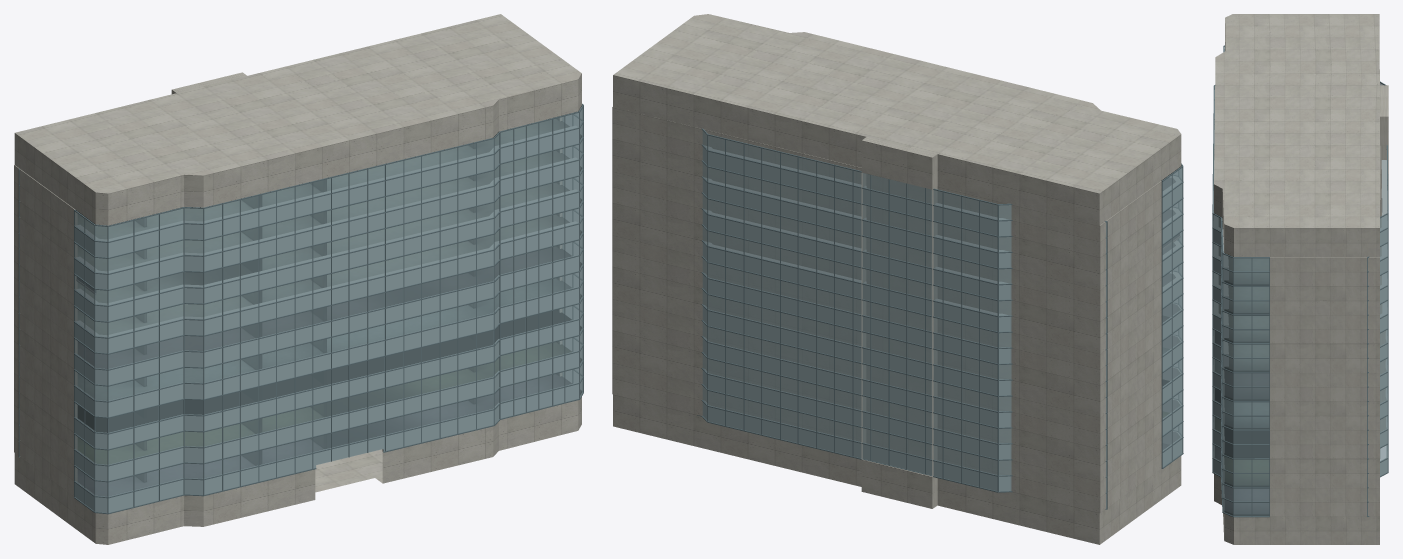
File: office.gltf
3 renders of one model, left to right at view 1: azimuth 30°, elevation 25°; view 2: azimuth 150°, elevation 25°; view 3: azimuth 270°, elevation 25°, orthographic. The views are drawn at different scales.
Visible parts, largest first — view 1: rear-BLD_OFFICE_01_glass_0, BLD_OFFICE_06_w2_0, rear-BLD_OFFICE_00_walls_exterior_0, BLD_OFFICE_05_walls [BLD_OFFICE_05]_0, rear-BLD_OFFICE_02_rams_0; view 2: BLD_OFFICE_06_w2_0, rear-BLD_OFFICE_01_glass_0, rear-BLD_OFFICE_00_walls_exterior_0, rear-BLD_OFFICE_02_rams_0; view 3: BLD_OFFICE_06_w2_0, rear-BLD_OFFICE_01_glass_0, BLD_OFFICE_05_walls [BLD_OFFICE_05]_0, rear-BLD_OFFICE_02_rams_0, rear-BLD_OFFICE_00_walls_exterior_0.
Boxes of the visible parts, <box> form: rear-BLD_OFFICE_01_glass_0: <box>75,106,582,512</box>; BLD_OFFICE_06_w2_0: <box>14,14,581,544</box>; rear-BLD_OFFICE_00_walls_exterior_0: <box>75,126,578,512</box>; BLD_OFFICE_05_walls [BLD_OFFICE_05]_0: <box>76,106,581,496</box>; rear-BLD_OFFICE_02_rams_0: <box>18,103,583,514</box>; BLD_OFFICE_06_w2_0: <box>612,14,1181,544</box>; rear-BLD_OFFICE_01_glass_0: <box>702,131,1182,508</box>; rear-BLD_OFFICE_00_walls_exterior_0: <box>703,146,1181,490</box>; rear-BLD_OFFICE_02_rams_0: <box>697,128,1183,509</box>; BLD_OFFICE_06_w2_0: <box>1214,14,1388,544</box>; rear-BLD_OFFICE_01_glass_0: <box>1213,47,1387,516</box>; BLD_OFFICE_05_walls [BLD_OFFICE_05]_0: <box>1215,215,1268,515</box>; rear-BLD_OFFICE_02_rams_0: <box>1212,45,1388,517</box>; rear-BLD_OFFICE_00_walls_exterior_0: <box>1213,100,1387,510</box>.
Size of the model in its own units: 46.71 by 32 by 16.15.
Materials: 8 (3 with a texture image).
